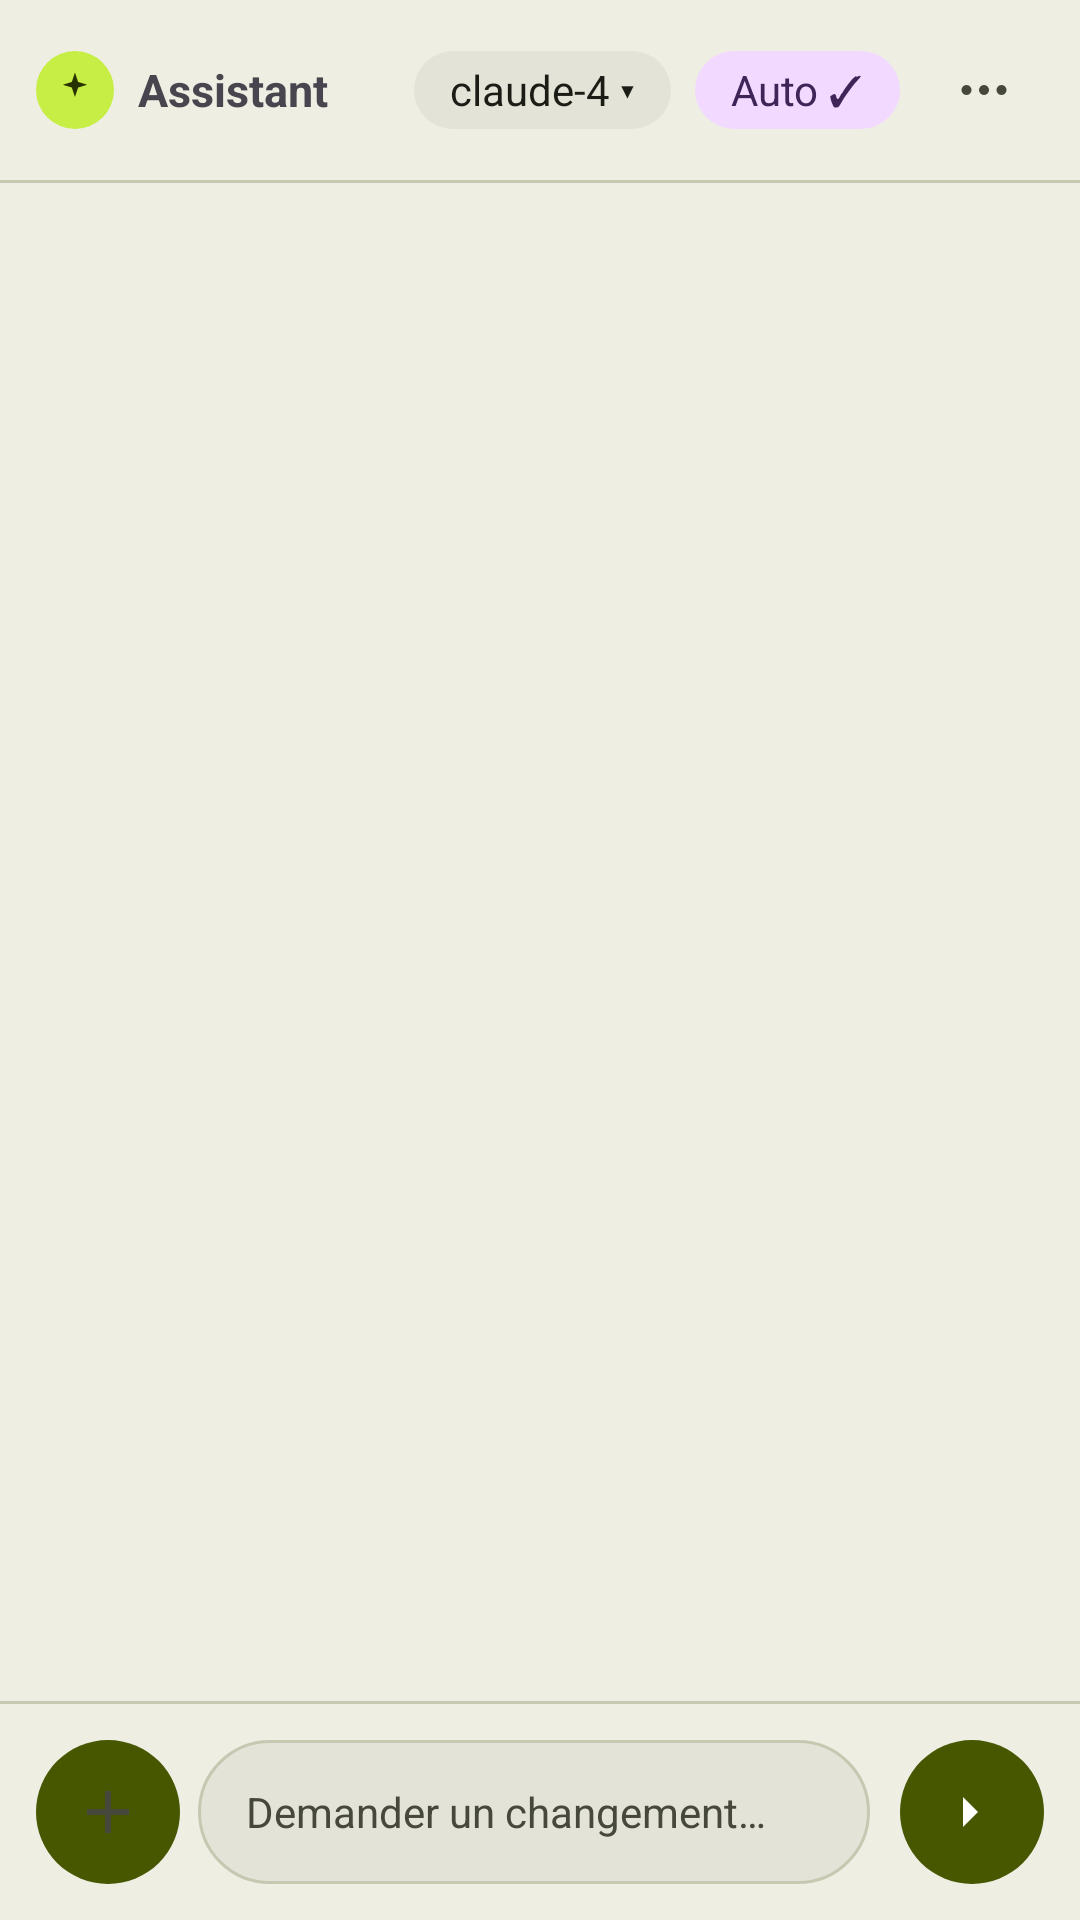

Locate icon controls on the screen. Image size 1080*1920, boxes as (x1, y1, x2, y2).
Actions: (961, 85, 1007, 95)
Envoyer: (900, 1740, 1044, 1884)
Joindre: (36, 1740, 180, 1884)
spark: (63, 73, 87, 97)
